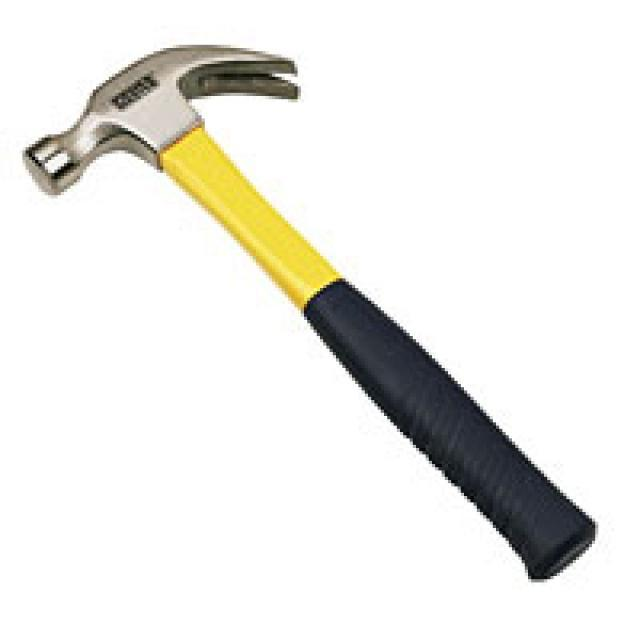hammer: (9, 30, 614, 591)
